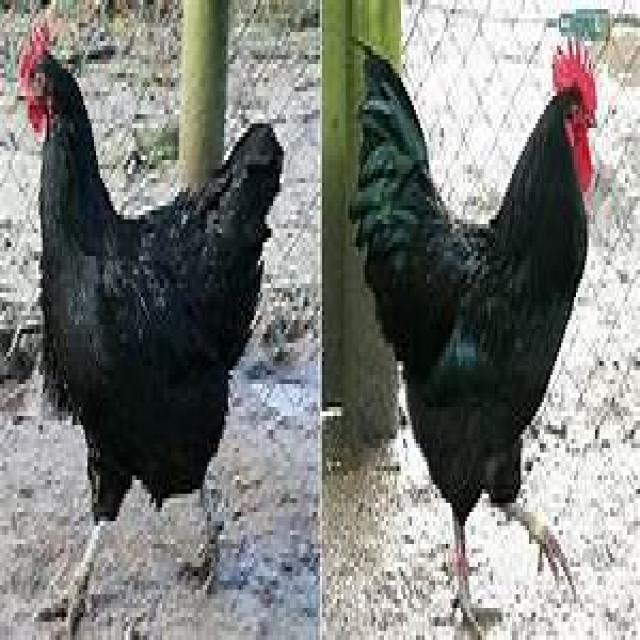hen: (350, 55, 597, 617), (19, 32, 284, 526)
